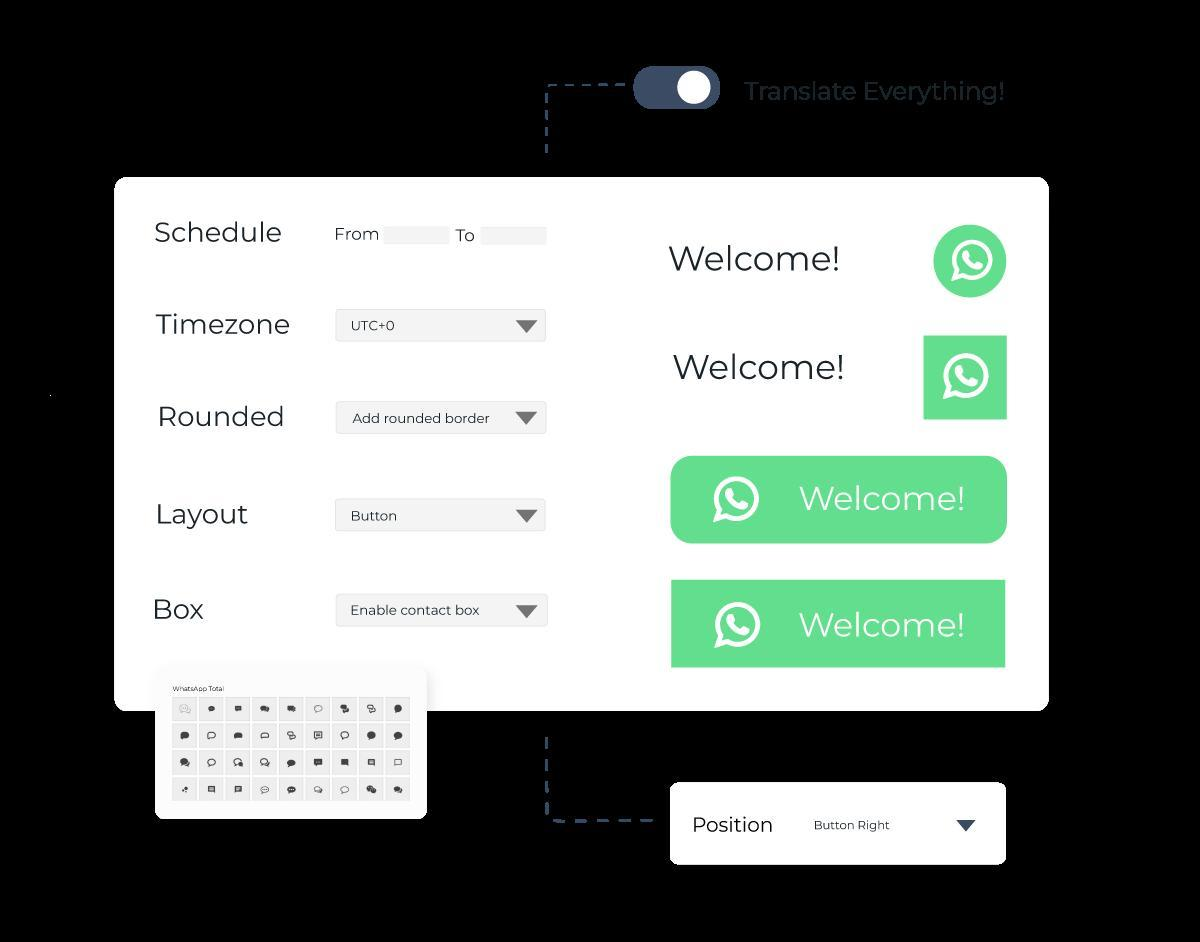dropdown: (330, 589, 554, 634), (332, 492, 551, 537), (333, 394, 555, 437), (801, 807, 995, 856), (336, 305, 551, 347)
icon: (715, 476, 767, 534), (706, 597, 761, 651), (942, 349, 994, 405), (952, 239, 994, 288)
input: (381, 221, 455, 253), (475, 223, 555, 251)
label: (670, 348, 860, 391), (656, 242, 851, 275), (151, 306, 295, 342), (152, 402, 291, 435), (152, 218, 285, 250), (143, 501, 254, 536), (151, 591, 212, 630)
switch: (623, 63, 727, 116)
